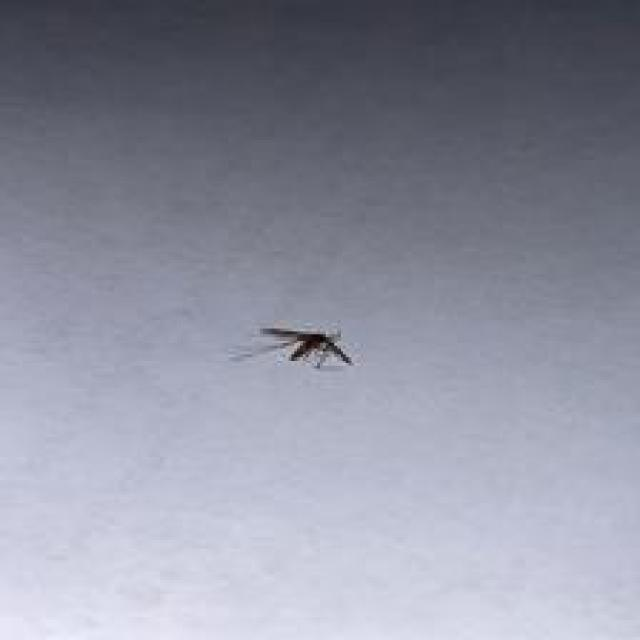Culex: (258, 324, 353, 370)
